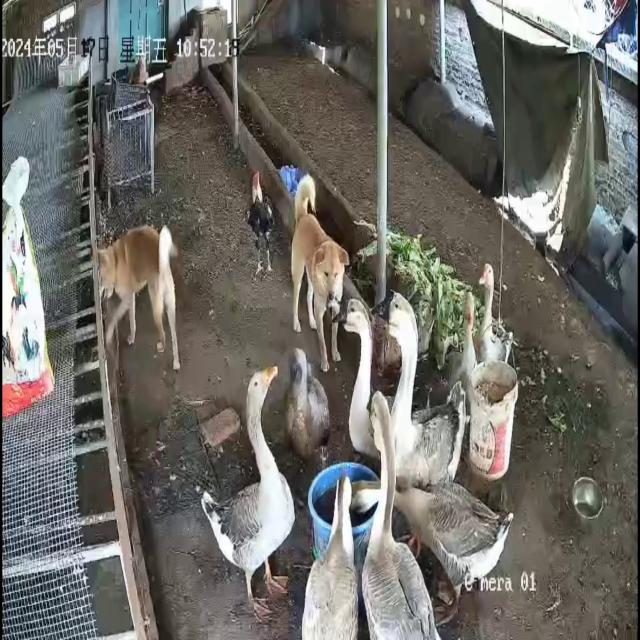dog: (96, 224, 182, 373), (291, 174, 350, 373)
